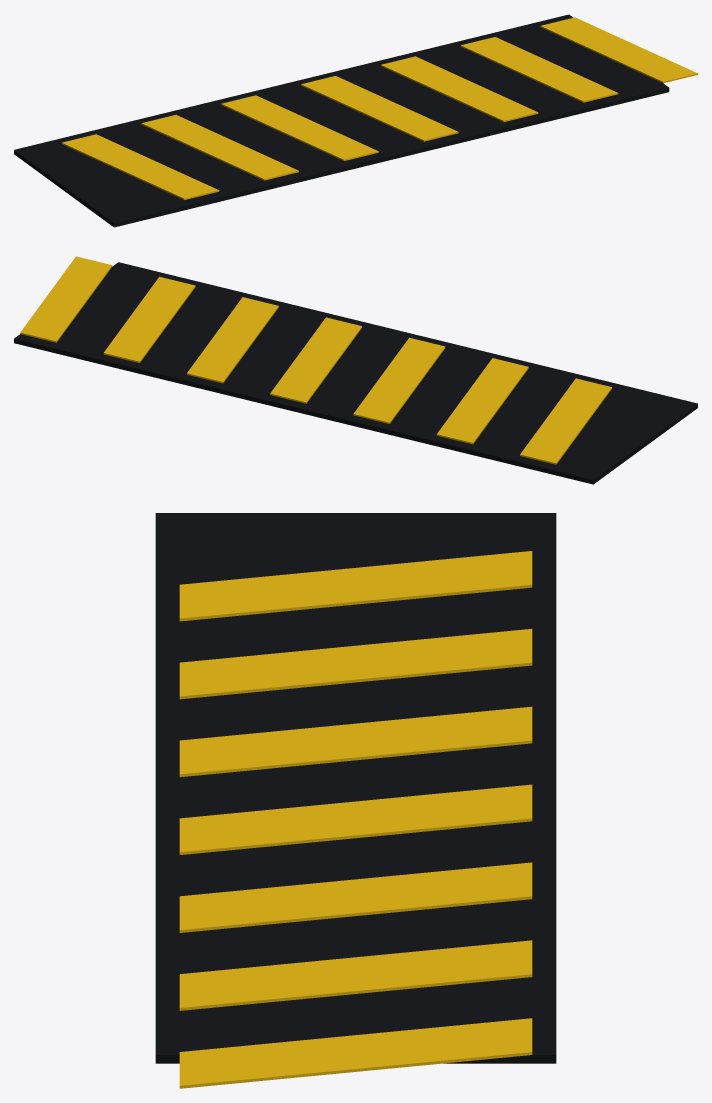
Rendered from sign_floor_marking.glb.
3 renders of one model, top to bottom at view 1: azimuth 30°, elevation 25°; view 2: azimuth 150°, elevation 25°; view 3: azimuth 270°, elevation 25°, orthographic. The views are drawn at different scales.
Parts seen in each view (by area): view 1: sign_floor_marking; view 2: sign_floor_marking; view 3: sign_floor_marking.
Part boxes in pixels (bbox=[...]): sign_floor_marking: bbox=[14, 14, 697, 227]; sign_floor_marking: bbox=[14, 256, 697, 484]; sign_floor_marking: bbox=[155, 513, 556, 1088].
Size of the model in its own units: 1.7 by 0.016 by 0.5.
